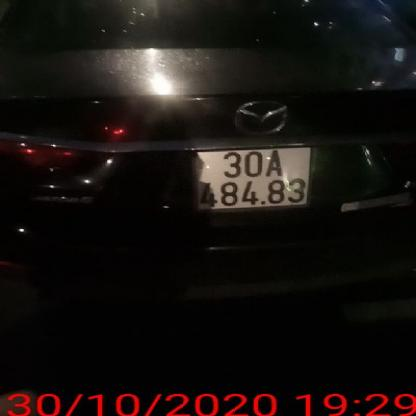biensoxe: (187, 143, 321, 221)
